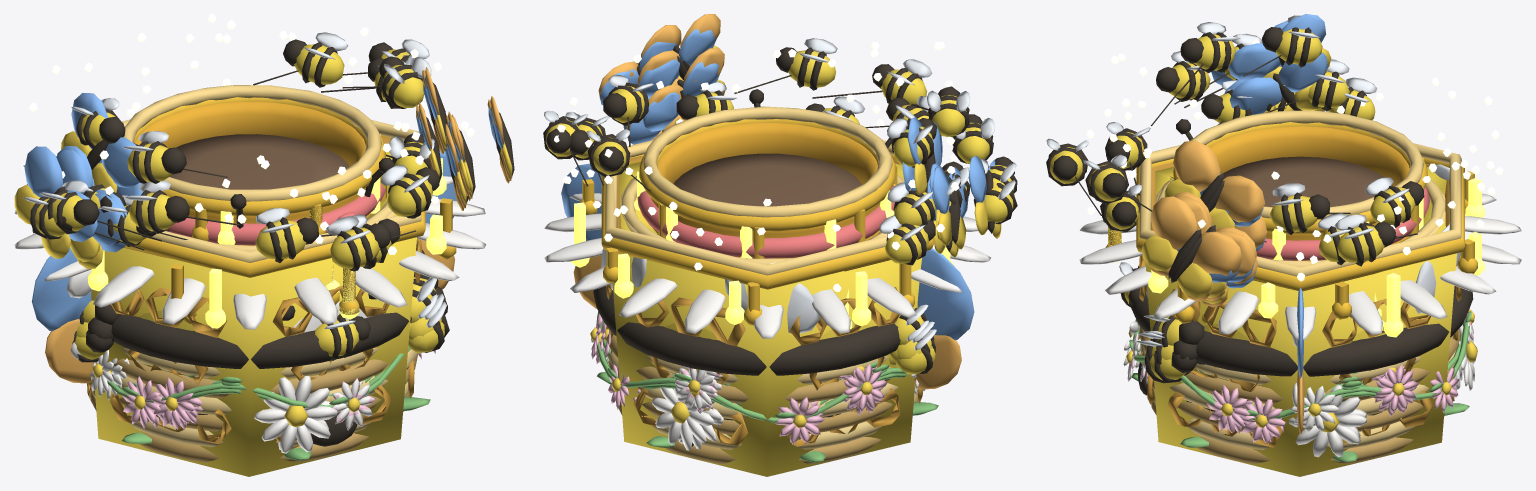
The model's file is chau-mat-ong.glb.
The picture shows the model from 3 angles, left to right: view 1: azimuth 30°, elevation 25°; view 2: azimuth 150°, elevation 25°; view 3: azimuth 270°, elevation 25°; orthographic projection. The views are drawn at different scales.
Parts seen in each view (by area): view 1: ChauMO_3_Than, ChauMO_2_Lv6, ChauMO_2_Than, ChauMO_3_Lv6, ChauMO_1_Than, ChauMO_4_Than, ChauMO_6_Than, ChauMO_2_Dat, ChauMO_2_Lv5, ChauMO_1_Lv5, ChauMO_3_Lv5, ChauMO_5_Than (+15 smaller); view 2: ChauMO_3_Than, ChauMO_2_Than, ChauMO_2_Lv6, ChauMO_6_Than, ChauMO_3_Lv6, ChauMO_4_Than, ChauMO_1_Than, ChauMO_2_Lv5, ChauMO_2_Dat, ChauMO_1_Lv5, ChauMO_3_Lv4, ChauMO_5_Than (+13 smaller); view 3: ChauMO_3_Than, ChauMO_3_Lv6, ChauMO_2_Lv6, ChauMO_6_Than, ChauMO_4_Than, ChauMO_1_Than, ChauMO_2_Than, ChauMO_2_Lv5, ChauMO_1_Lv6, ChauMO_3_Lv4, ChauMO_1_Lv5, ChauMO_2_Dat (+14 smaller).
Boxes of the visible parts, x1=… form: ChauMO_3_Than: x1=87, y1=136, x2=422, y2=476; ChauMO_2_Lv6: x1=61, y1=14, x2=447, y2=244; ChauMO_2_Than: x1=135, y1=102, x2=386, y2=360; ChauMO_3_Lv6: x1=14, y1=27, x2=514, y2=424; ChauMO_1_Than: x1=90, y1=347, x2=417, y2=462; ChauMO_4_Than: x1=14, y1=176, x2=485, y2=460; ChauMO_6_Than: x1=111, y1=157, x2=424, y2=414; ChauMO_2_Dat: x1=170, y1=134, x2=349, y2=189; ChauMO_2_Lv5: x1=71, y1=56, x2=445, y2=233; ChauMO_1_Lv5: x1=99, y1=32, x2=439, y2=430; ChauMO_3_Lv5: x1=23, y1=107, x2=511, y2=424; ChauMO_5_Than: x1=31, y1=150, x2=456, y2=383; ChauMO_3_Than: x1=606, y1=155, x2=922, y2=476; ChauMO_2_Than: x1=637, y1=123, x2=894, y2=258; ChauMO_2_Lv6: x1=604, y1=14, x2=967, y2=387; ChauMO_6_Than: x1=593, y1=89, x2=900, y2=446; ChauMO_3_Lv6: x1=554, y1=25, x2=1013, y2=408; ChauMO_4_Than: x1=544, y1=193, x2=990, y2=462; ChauMO_1_Than: x1=606, y1=327, x2=918, y2=464; ChauMO_2_Lv5: x1=603, y1=29, x2=970, y2=228; ChauMO_2_Dat: x1=674, y1=153, x2=862, y2=206; ChauMO_1_Lv5: x1=586, y1=62, x2=970, y2=444; ChauMO_3_Lv4: x1=579, y1=154, x2=933, y2=409; ChauMO_5_Than: x1=561, y1=163, x2=974, y2=389; ChauMO_3_Than: x1=1139, y1=162, x2=1461, y2=476; ChauMO_3_Lv6: x1=1050, y1=20, x2=1495, y2=428; ChauMO_2_Lv6: x1=1109, y1=14, x2=1499, y2=379; ChauMO_6_Than: x1=1129, y1=119, x2=1473, y2=415; ChauMO_4_Than: x1=1079, y1=193, x2=1521, y2=461; ChauMO_1_Than: x1=1138, y1=326, x2=1460, y2=463; ChauMO_2_Than: x1=1119, y1=126, x2=1429, y2=307; ChauMO_2_Lv5: x1=1178, y1=15, x2=1409, y2=234; ChauMO_1_Lv6: x1=1122, y1=52, x2=1473, y2=432; ChauMO_3_Lv4: x1=1105, y1=157, x2=1477, y2=406; ChauMO_1_Lv5: x1=1128, y1=80, x2=1471, y2=444; ChauMO_2_Dat: x1=1221, y1=156, x2=1393, y2=207.
Bounding box in the file's own units: 1.57 × 1.13 × 1.51.
